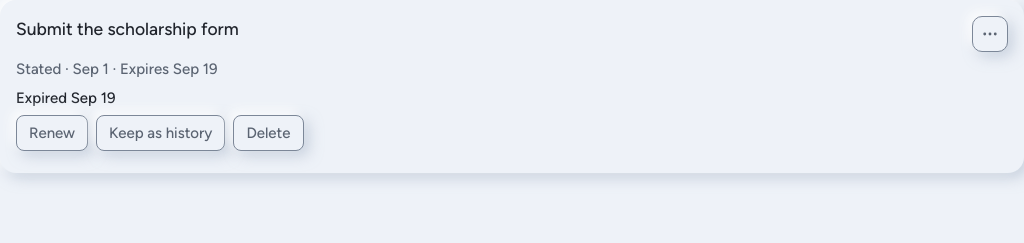
Test: NeedsReviewPane › an expired item's Renew opens the inline choice: a new expiry date or no expiry
Click the button "Renew" at (52,133), box top-left (16, 115), bottom-right (88, 151)
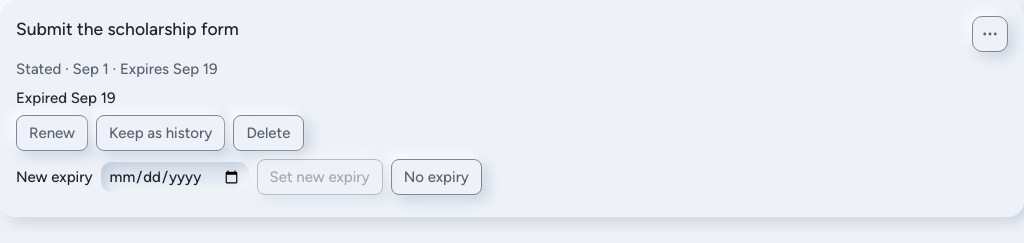
Type "2026-12-01" into the date field labelled "New expiry" at (174,177), box top-left (100, 162), bottom-right (248, 192)
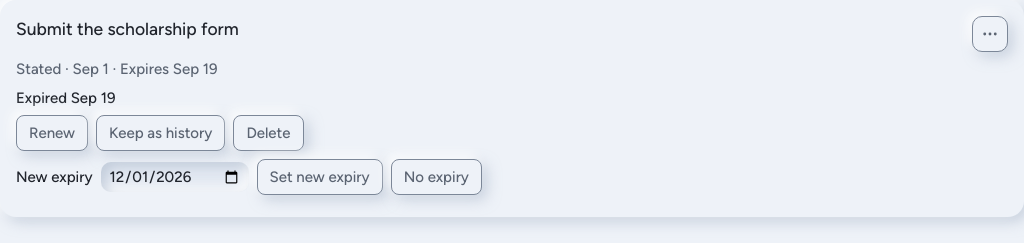
Click the button "Set new expiry" at (320,177), box top-left (256, 159), bottom-right (383, 195)
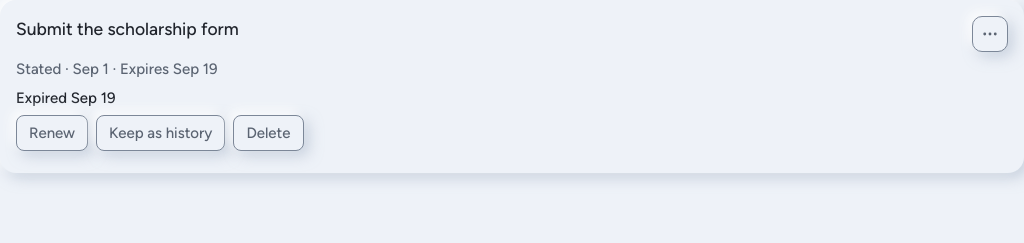
Now the label labelled "New expiry" is gone
